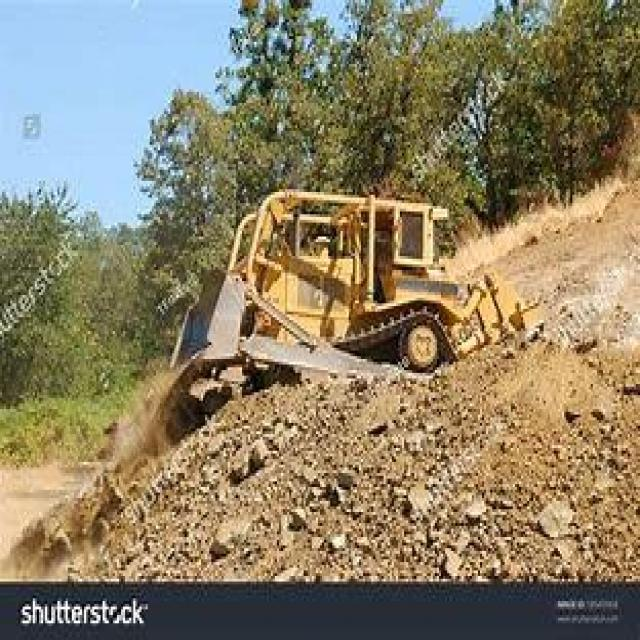Bulldozer: (154, 136, 533, 434)
